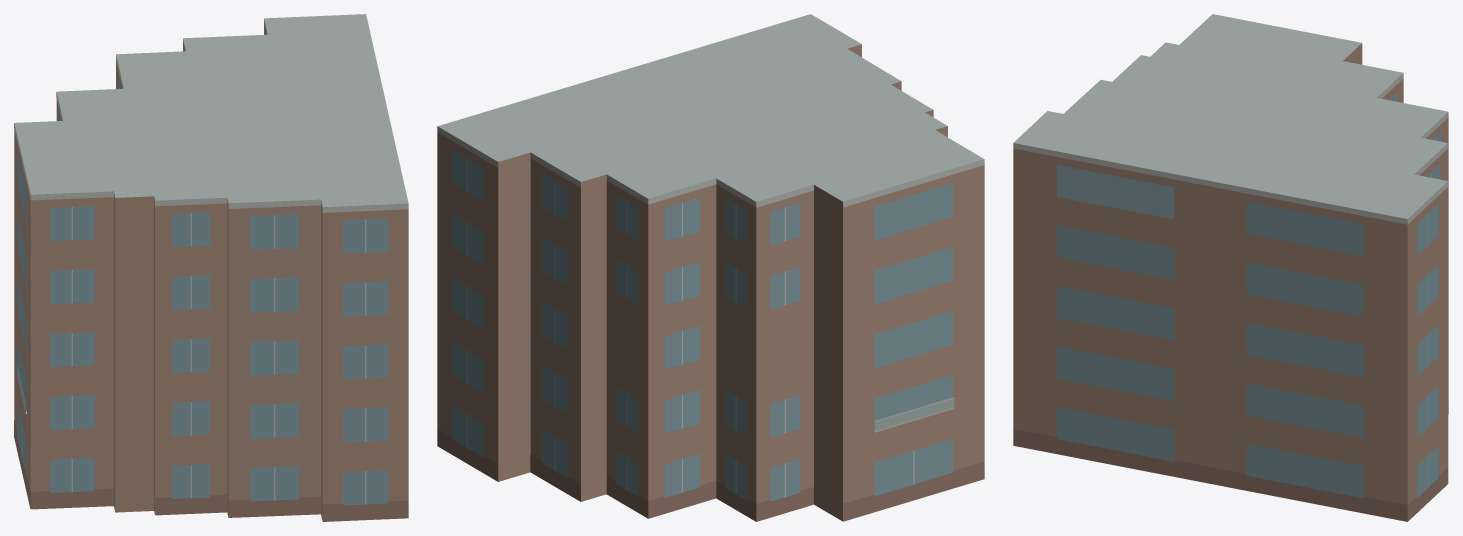
The model's file is survey-upis-33045582.glb.
3 views of the same model, side by side, from view 1: azimuth 30°, elevation 25°; view 2: azimuth 150°, elevation 25°; view 3: azimuth 270°, elevation 25° (orthographic). The views are drawn at different scales.
Parts seen in each view (by area): view 1: survey-upis-33045582.tmp; view 2: survey-upis-33045582.tmp; view 3: survey-upis-33045582.tmp.
Part boxes in pixels (<box>): survey-upis-33045582.tmp: <box>14,14,408,521</box>; survey-upis-33045582.tmp: <box>437,14,984,521</box>; survey-upis-33045582.tmp: <box>1013,14,1448,521</box>.
Size of the model in its own units: 19.55 by 13.45 by 17.54.
